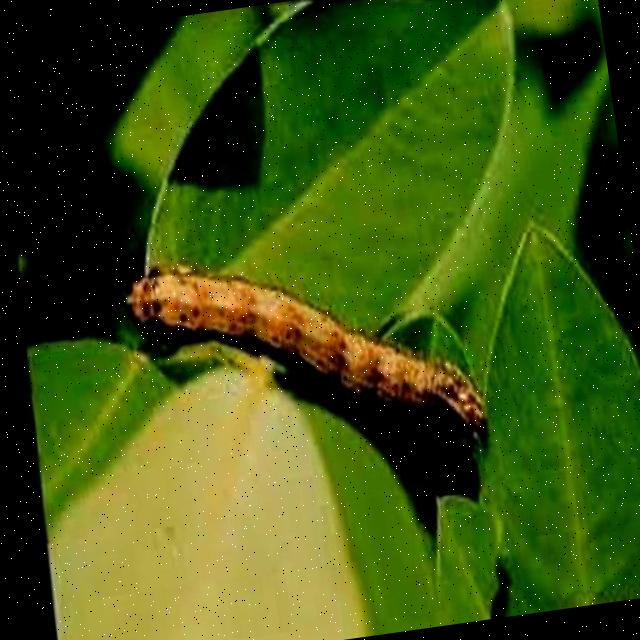worm: (121, 221, 491, 481)
